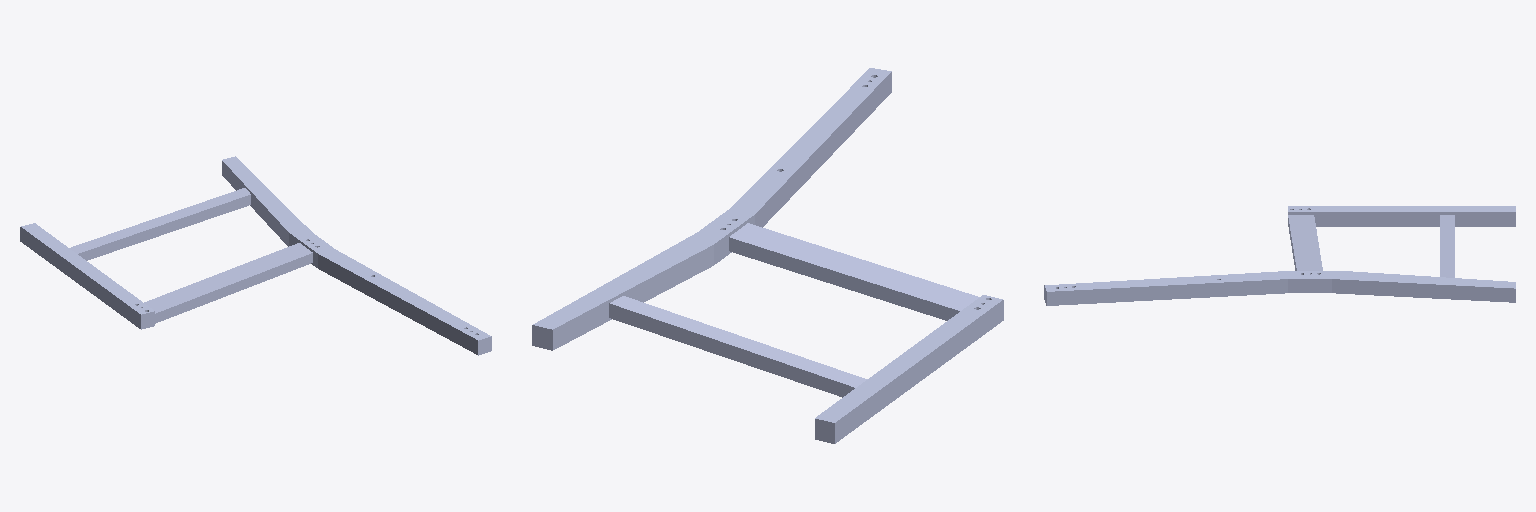
robot.urdf — chair part6.SLDPRT:
<?xml version="1.0" encoding="utf-8"?>
<!-- This URDF was automatically created by SolidWorks to URDF Exporter! Originally created by [author] ([email redacted]) 
     Commit Version: 1.5.1-0-g916b5db  Build Version: 1.5.7152.31018
     For more information, please see http://wiki.ros.org/sw_urdf_exporter -->
<robot
  name="chair part6.SLDPRT">
  <link
    name="chair part6.SLDPRT">
    <inertial>
      <origin
        xyz="0.25265 -0.35064 0.037466"
        rpy="1.5707963267949 0 0" />
      <mass
        value="1.8822" />
      <inertia
        ixx="0.092184"
        ixy="-0.0046305"
        ixz="-0.028222"
        iyy="0.14409"
        iyz="0.00238449999999999"
        izz="0.052969" />
    </inertial>
    <visual>
      <origin
        xyz="0 0 0.015"
        rpy="3.141592653 0 0" />
      <geometry>
        <mesh
          filename="package://object_description/chair_meshes/chair part6.SLDPRT.STL" />
      </geometry>
      <material
        name="">
        <color
          rgba="0.79216 0.81961 0.93333 1" />
        <texture
          filename="package://object_description/textures/" />
      </material>
    </visual>
    <collision>
      <origin
        xyz="0 0 0.015"
        rpy="3.141592653 0 0" />
      <geometry>
        <mesh
          filename="package://object_description/chair_meshes/chair part6.SLDPRT.STL" />
      </geometry>
      <surface>
      <contact>
          <ode>
            <kp>1.0E+15</kp>
            <kd>1.0E+13</kd>
          </ode>
        </contact>
      </surface>
    </collision>
  </link>
  <gazebo reference="chair part6.SLDPRT">
    <material>Gazebo/White</material>
    <kp>100000.0</kp>
    <kd>1.0</kd>
    <mu1>100000</mu1>
    <mu2>100000</mu2>
    <maxVel>0</maxVel>
    <minDepth>0.00</minDepth>
  </gazebo>
</robot>

--- Render facts (derived) ---
The picture shows the robot from 3 angles, left to right: view 1: azimuth 30°, elevation 25°; view 2: azimuth 150°, elevation 25°; view 3: azimuth 270°, elevation 25°; orthographic projection.
Model chair part6.SLDPRT with 1 links and 0 joints (none), rooted at chair part6.SLDPRT, posed all joints at 0.
Visible links, largest first — view 1: chair part6.SLDPRT; view 2: chair part6.SLDPRT; view 3: chair part6.SLDPRT.
Link boxes in pixels (x1,y1,x2,y2): chair part6.SLDPRT: (20, 156, 491, 355); chair part6.SLDPRT: (532, 68, 1003, 443); chair part6.SLDPRT: (1044, 206, 1515, 305).
Size in the robot's own frame: 0.4647 by 0.9006 by 0.065 metres.
1 mesh visuals loaded from 1 distinct referenced files (1 binary STL).